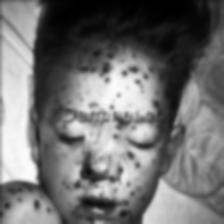Toxin: (74, 44, 170, 107), (0, 192, 72, 224), (122, 165, 146, 224), (76, 217, 119, 224)
